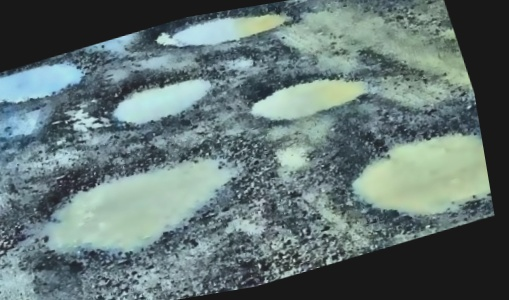pothole: (8, 118, 278, 291), (323, 107, 495, 244), (239, 52, 382, 135), (136, 0, 306, 68), (92, 56, 228, 139), (0, 42, 116, 126), (375, 0, 443, 10)
